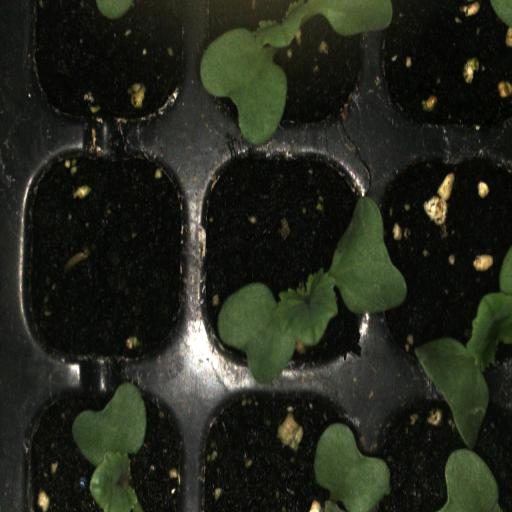noseedling: (19, 142, 198, 382)
seedling: (197, 140, 374, 386), (378, 139, 512, 384), (12, 378, 192, 512), (198, 0, 371, 136)
